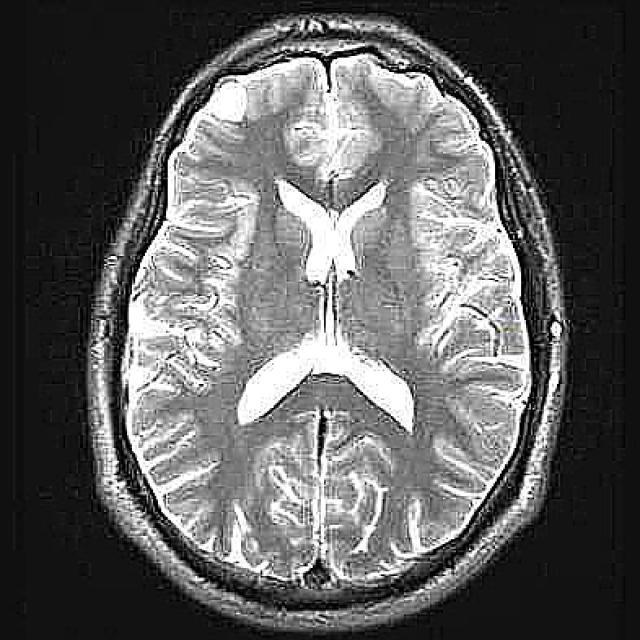notumor: (88, 13, 570, 637)
